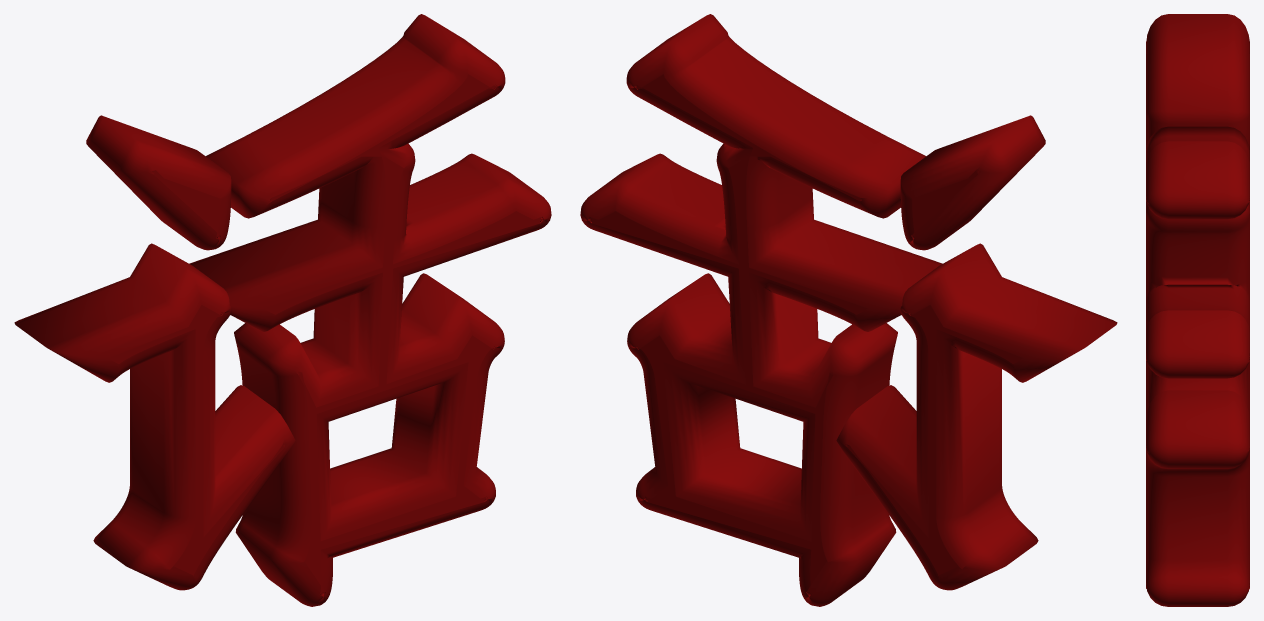
Rendered from hua.fbx.
3 renders of one model, left to right at view 1: azimuth 30°, elevation 25°; view 2: azimuth 150°, elevation 25°; view 3: azimuth 270°, elevation 25°, orthographic. The views are drawn at different scales.
Visible parts, largest first — view 1: hua; view 2: hua; view 3: hua.
Part boxes in pixels (box(x1,y1,x2,y2)): hua: box(14, 14, 551, 606); hua: box(580, 14, 1117, 606); hua: box(1146, 14, 1249, 606).
Bounding box in the file's own units: 74.8 × 75.69 × 14.
